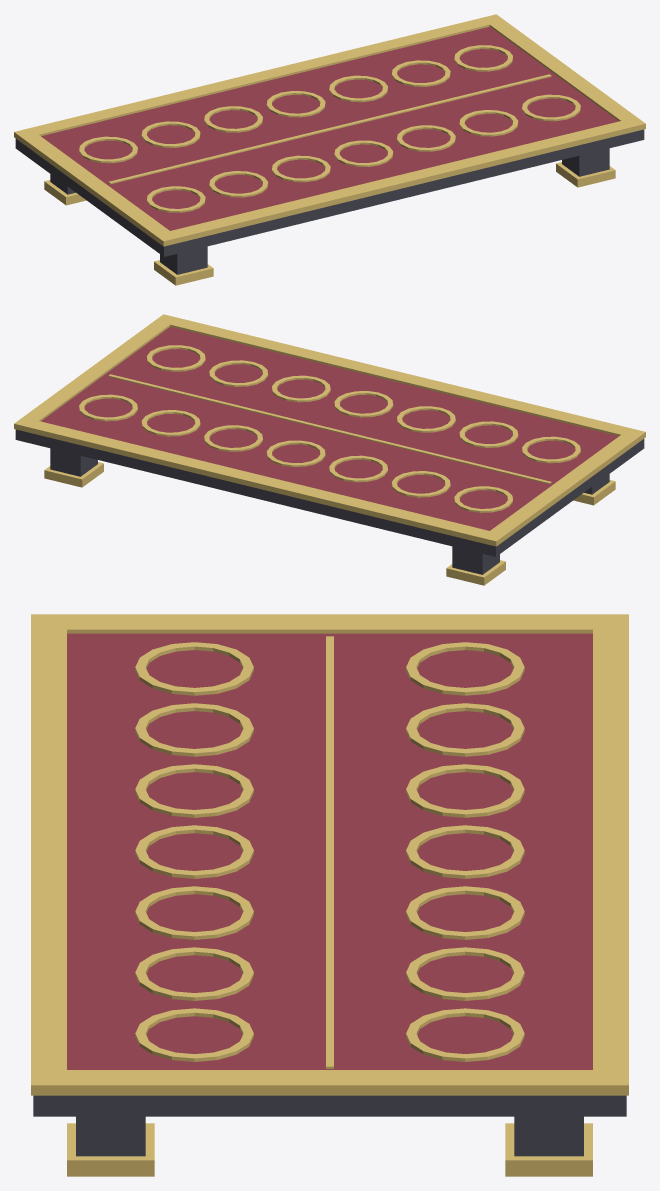
File: conclave_war_table.glb
The picture shows the model from 3 angles, top to bottom: view 1: azimuth 30°, elevation 25°; view 2: azimuth 150°, elevation 25°; view 3: azimuth 270°, elevation 25°; orthographic projection. The views are drawn at different scales.
Parts seen in each view (by area): view 1: SM_ConclaveWarTable; view 2: SM_ConclaveWarTable; view 3: SM_ConclaveWarTable.
Boxes of the visible parts, <box> form: SM_ConclaveWarTable: <box>14,14,645,285</box>; SM_ConclaveWarTable: <box>14,314,645,585</box>; SM_ConclaveWarTable: <box>31,614,628,1176</box>.
Bounding box in the file's own units: 8.64 × 0.96 × 4.64.
